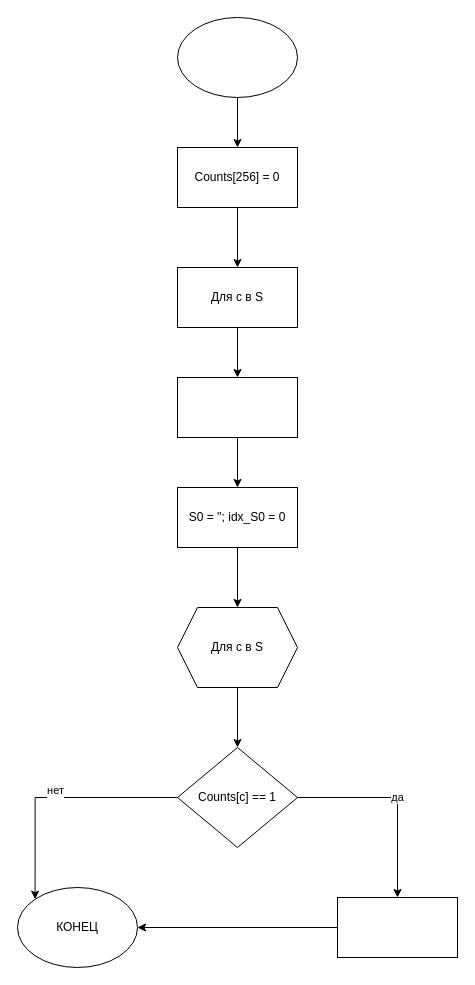
The diagram is 475 pixels wide and 985 high, and some of its shapes have lost their labels. Here are the shapes that lost their labels. From the top down, the box of each, then its label:
(176, 16, 298, 98): НАЧАЛО
(176, 376, 298, 438): Counts[c]++
(336, 896, 458, 958): S0[idx_S0] = c; idx_S0++
